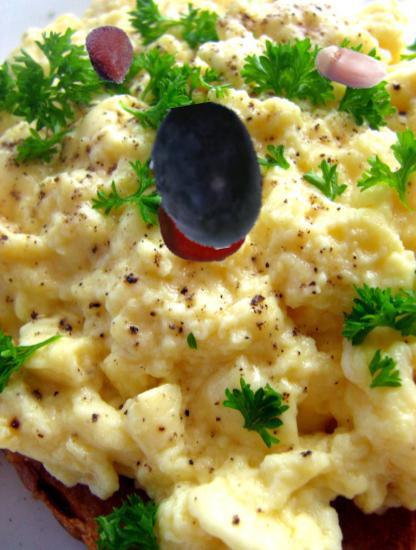Apple: (156, 171, 250, 265)
Blueberry: (132, 103, 280, 251)
Hazelnut: (313, 31, 389, 107)
Salak: (80, 23, 143, 86)
